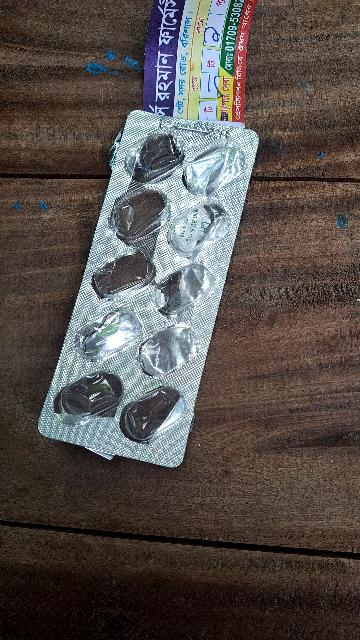medicine: (33, 80, 269, 470)
